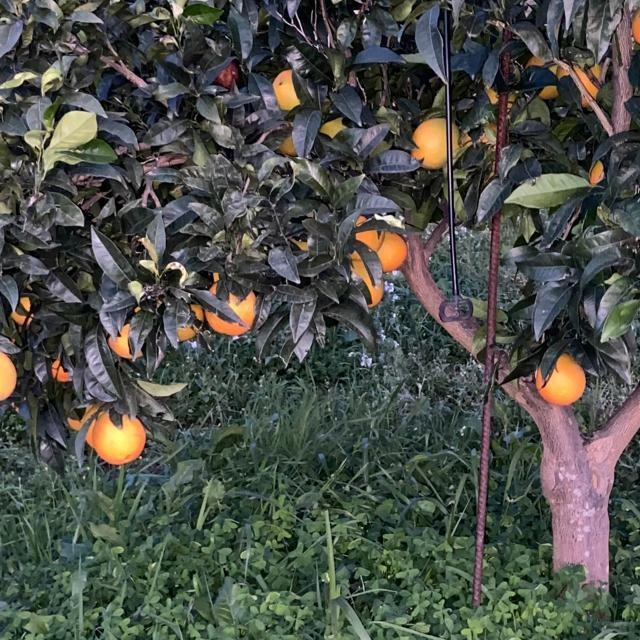orange: (85, 406, 145, 466), (351, 218, 409, 274), (473, 70, 523, 130), (410, 112, 464, 166), (536, 349, 588, 405), (187, 261, 229, 325), (208, 290, 258, 334), (350, 247, 384, 309), (316, 116, 358, 164), (270, 64, 308, 114), (568, 59, 602, 111), (528, 47, 566, 93), (270, 66, 302, 110), (110, 317, 142, 359), (68, 399, 104, 433), (458, 126, 496, 158), (213, 56, 241, 94), (0, 348, 16, 404), (284, 230, 322, 250), (626, 2, 640, 54), (48, 357, 76, 383), (585, 156, 607, 188), (173, 318, 203, 340), (275, 127, 297, 157), (13, 295, 33, 323)
